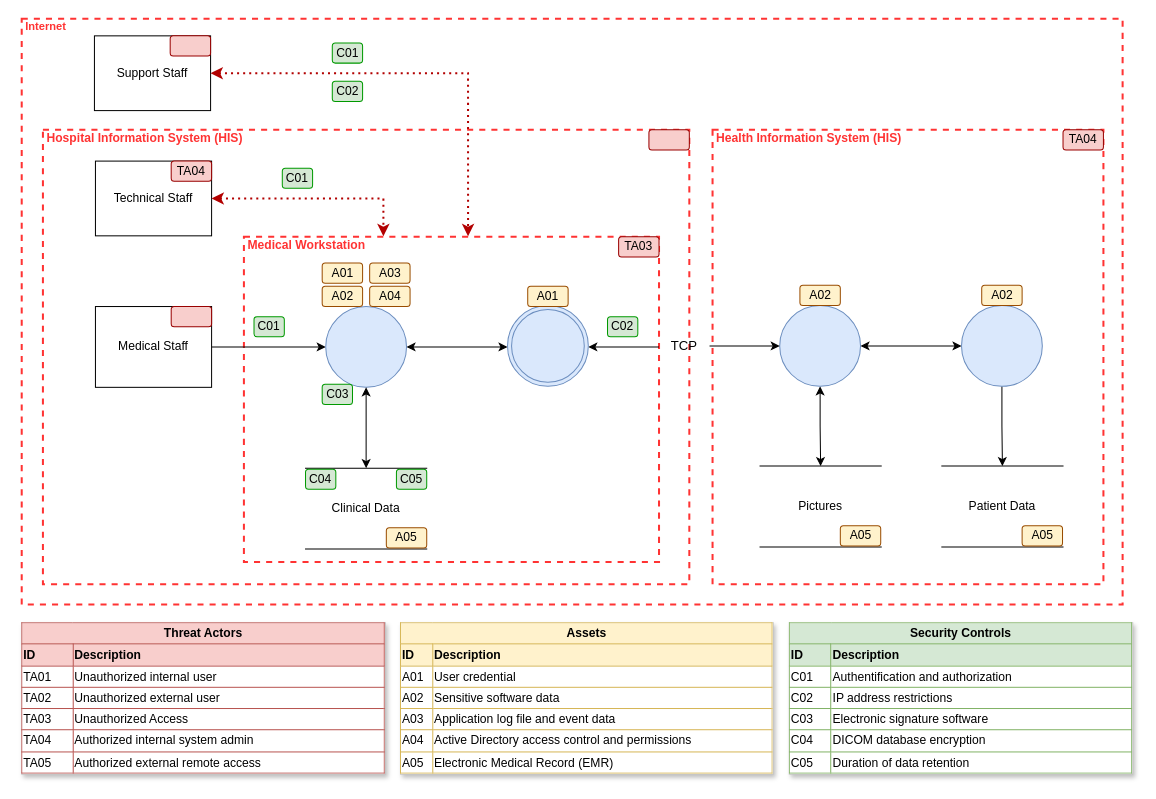
The diagram is 1156 pixels wide and 799 high, and some of its shapes have lost their labels. The shapes that lost their labels are listed below. From the top down, each one's centre as x and y in pixels, then its label:
the point at 190,45: TA05
the point at 668,139: TA02
the point at 191,316: TA01
the point at 366,346: Medical Imaging Software
the point at 547,345: API DICOM
the point at 820,345: PACS
the point at 1001,345: HIS / RIS / EMR
